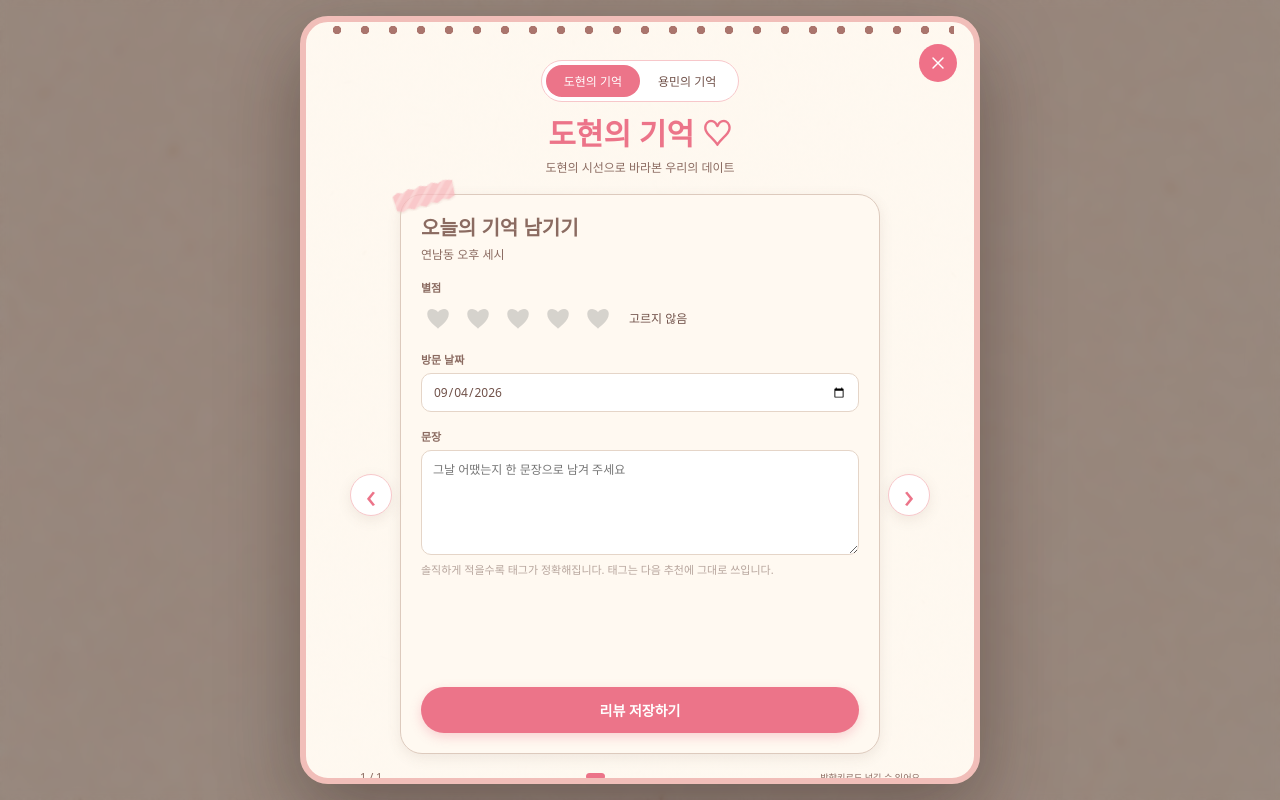
Test case: 리뷰 작성 화면 › 같은 날짜에 이미 리뷰가 있으면 폼 옆에 안내를 남긴다
The image size is (1280, 800).
Step 1. Click the radio button with test id "review-rating-4" → (558, 318), box [541, 301, 575, 335]
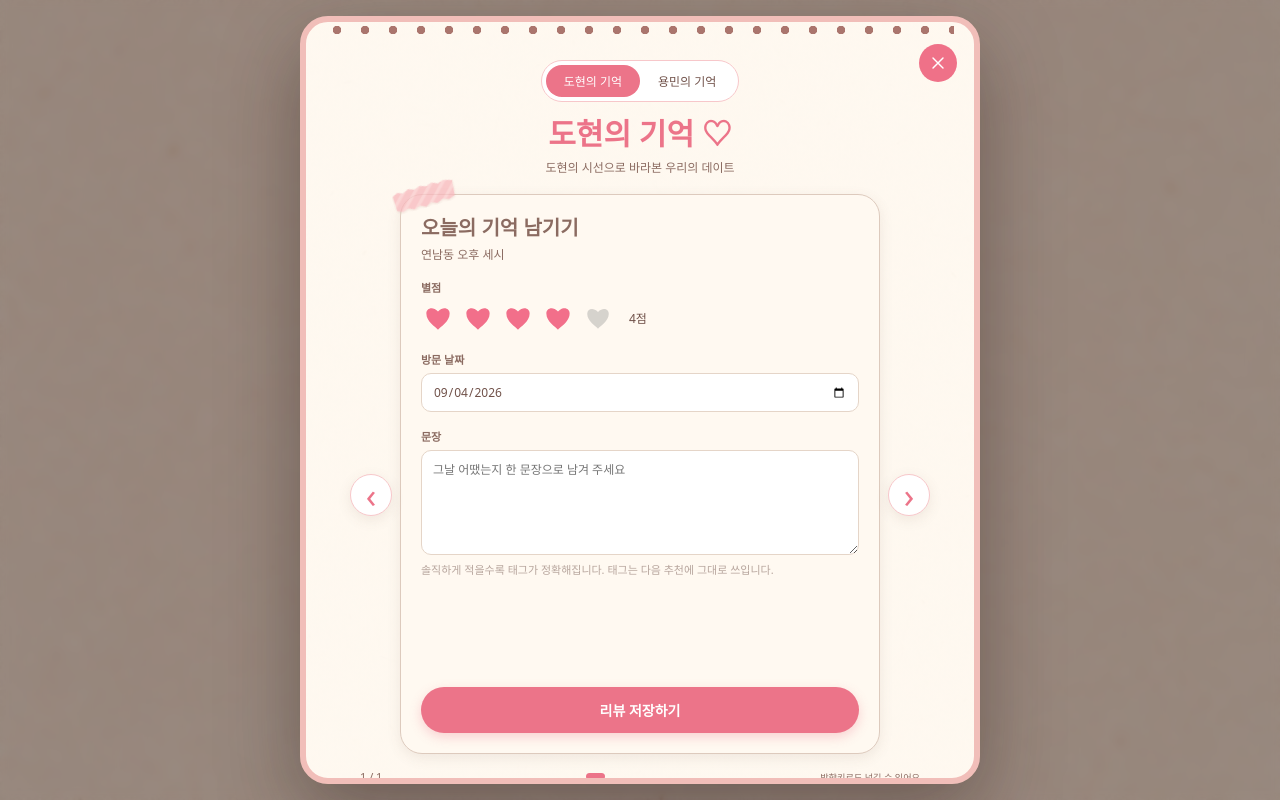
Step 2. Type "조용해서 얘기하기 좋았어요" into the text box with test id "review-content" → (640, 502), box [421, 450, 859, 555]
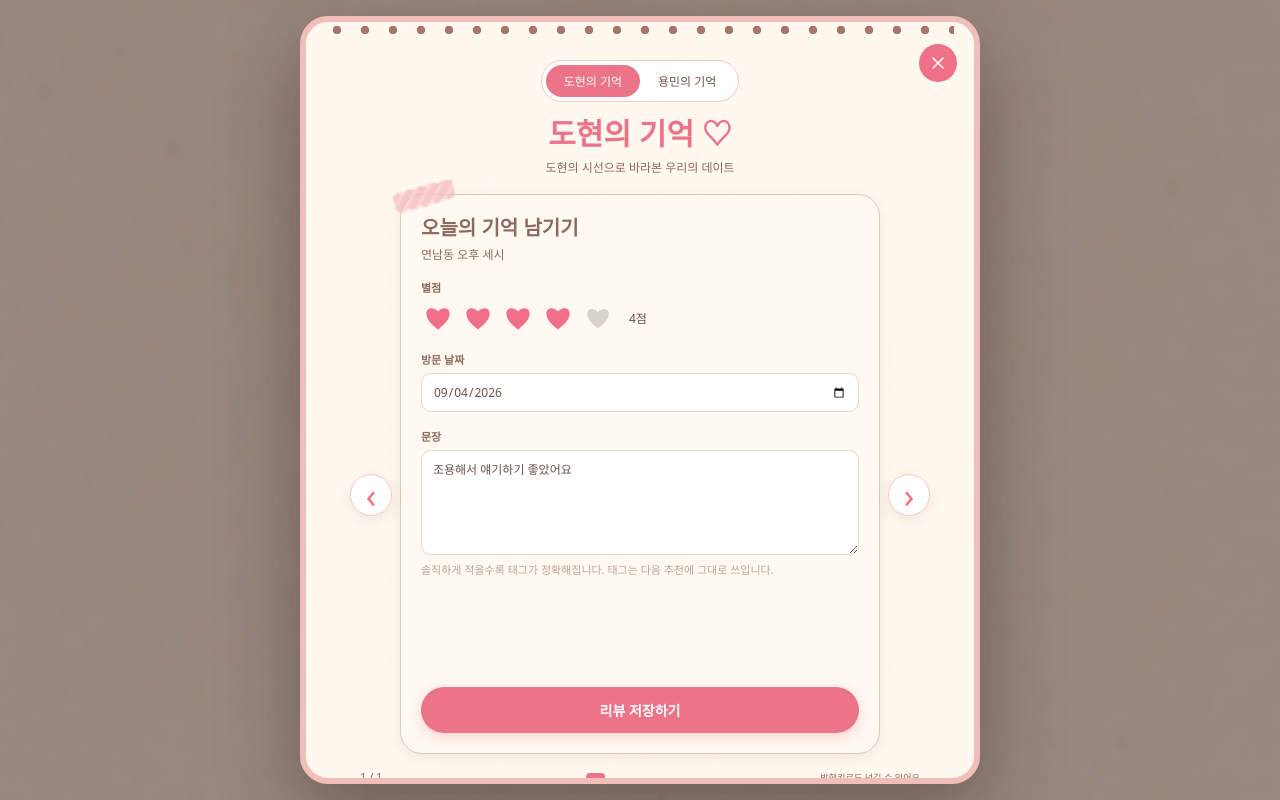
Step 3. Submit the form with test id "review-write-form", box [400, 194, 880, 754]
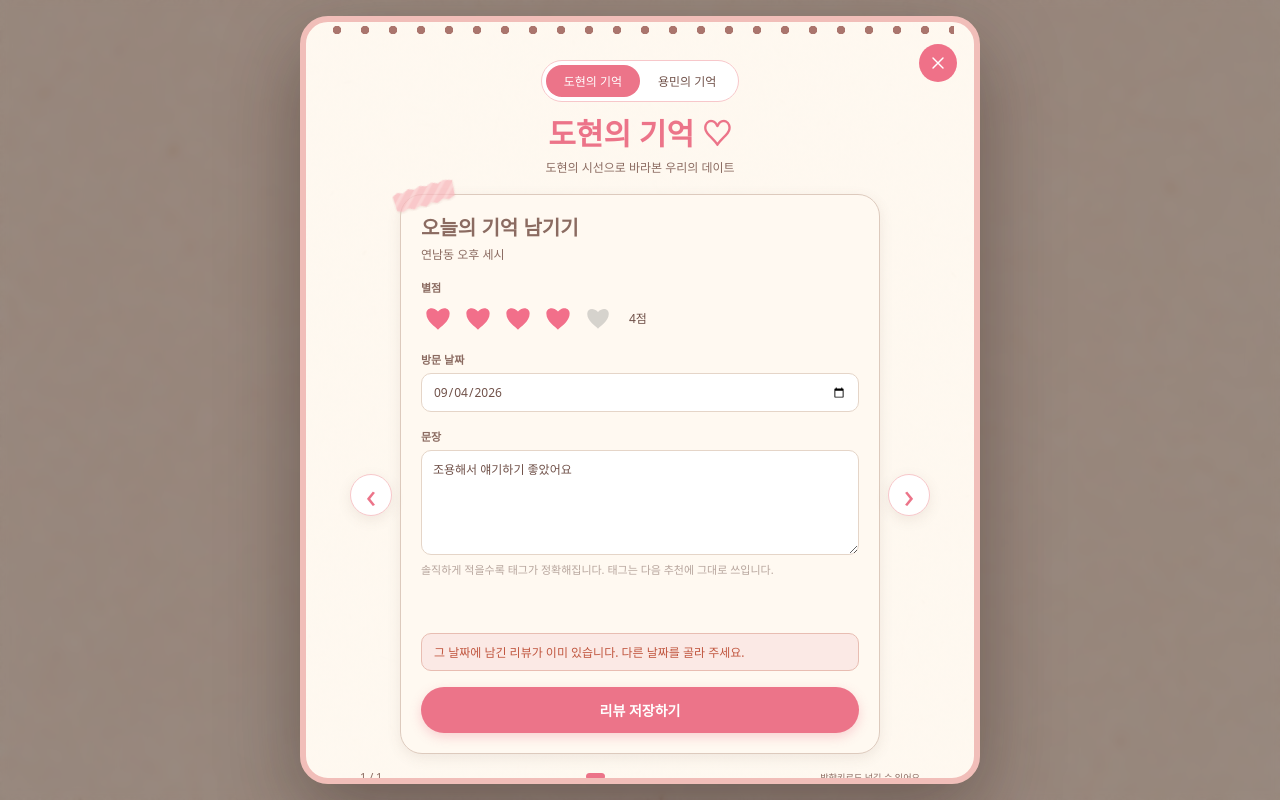
Check: the message with test id "review-form-error" reads "그 날짜에 남긴 리뷰가 이미 있습니다. 다른 날짜를 골라 주세요.", box [434, 644, 744, 661]
